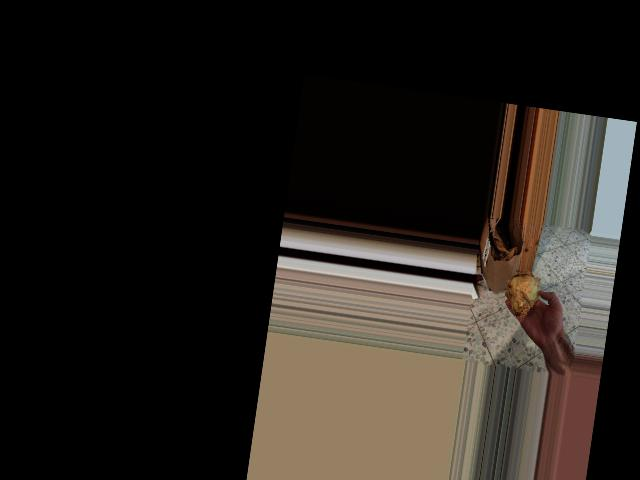onion: (501, 268, 548, 324)
